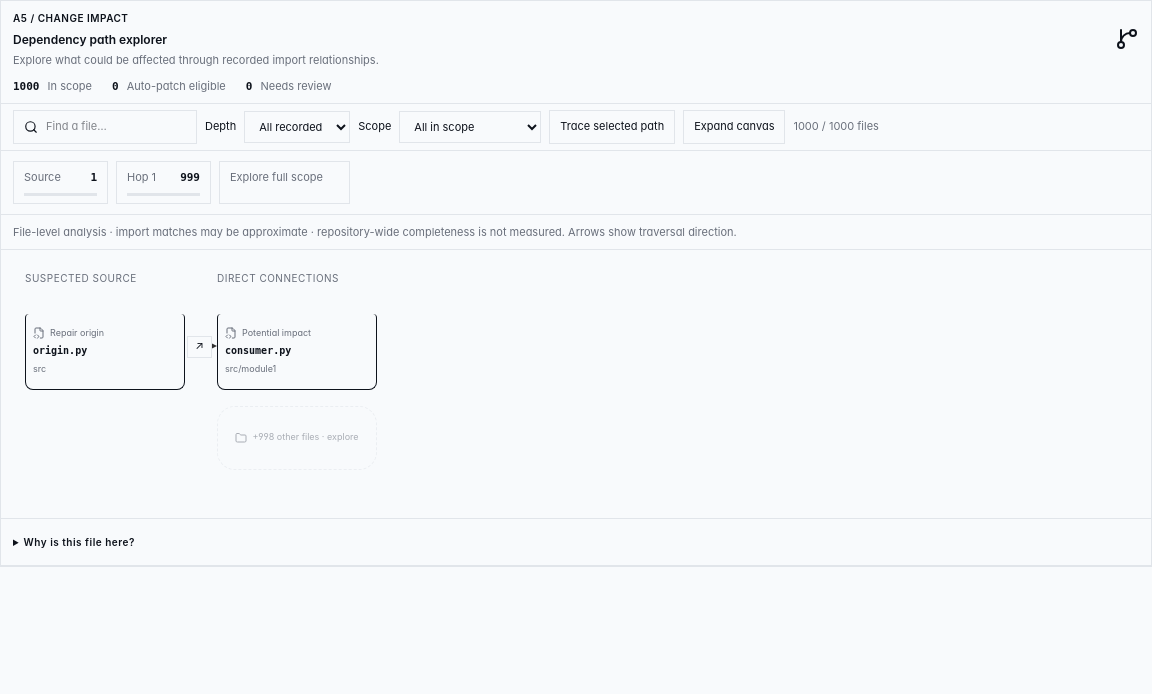
Adaptive agent graphs › bounds the graph for 1000 files while retaining searchable access to every file
This screenshot has width=1152, height=694.
Click the button with aria-label "Inspect Depth 1" at (297, 438), box [217,406,377,470]
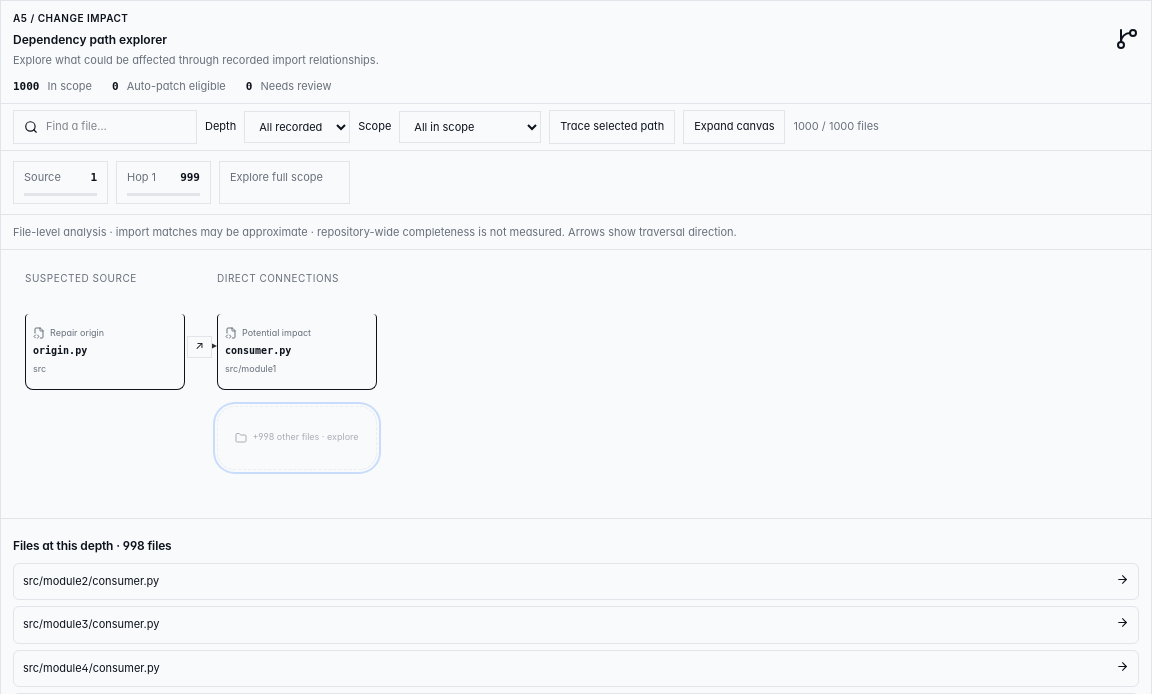
Type "module999" into the field named "Find affected file" at (116, 127), box [46,118,186,136]
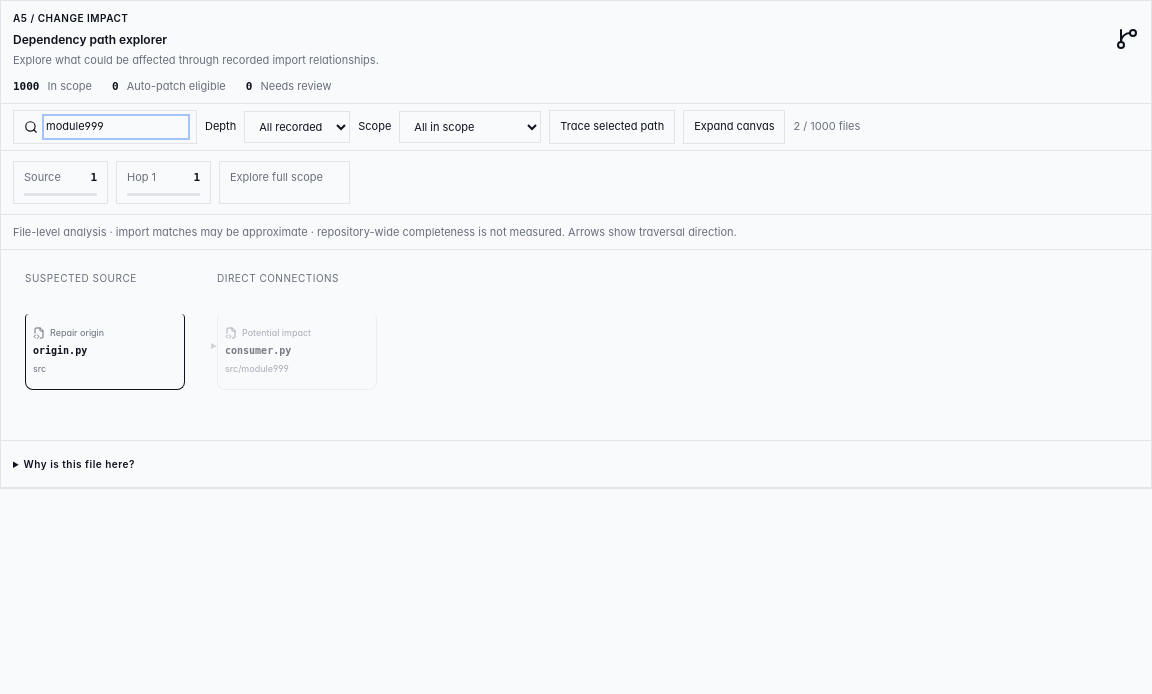
Expected: the button with aria-label "Inspect src/module999/consumer.py" is shown, [217,314,377,390]
